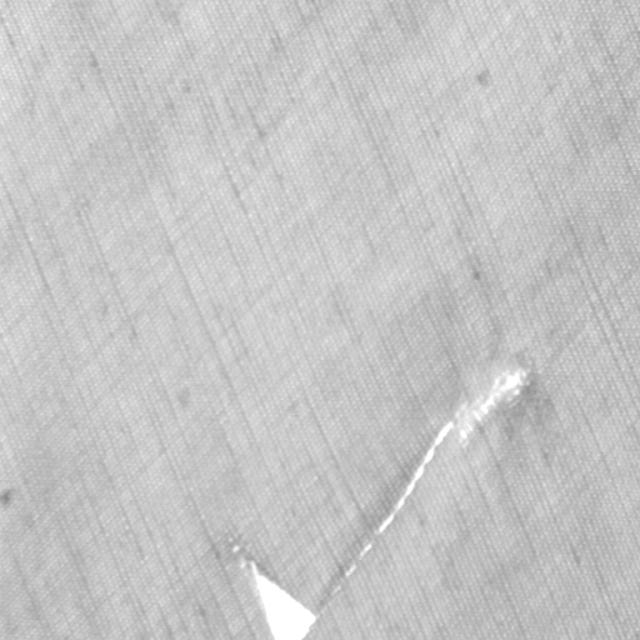hole: (313, 340, 541, 639), (226, 525, 319, 639)
